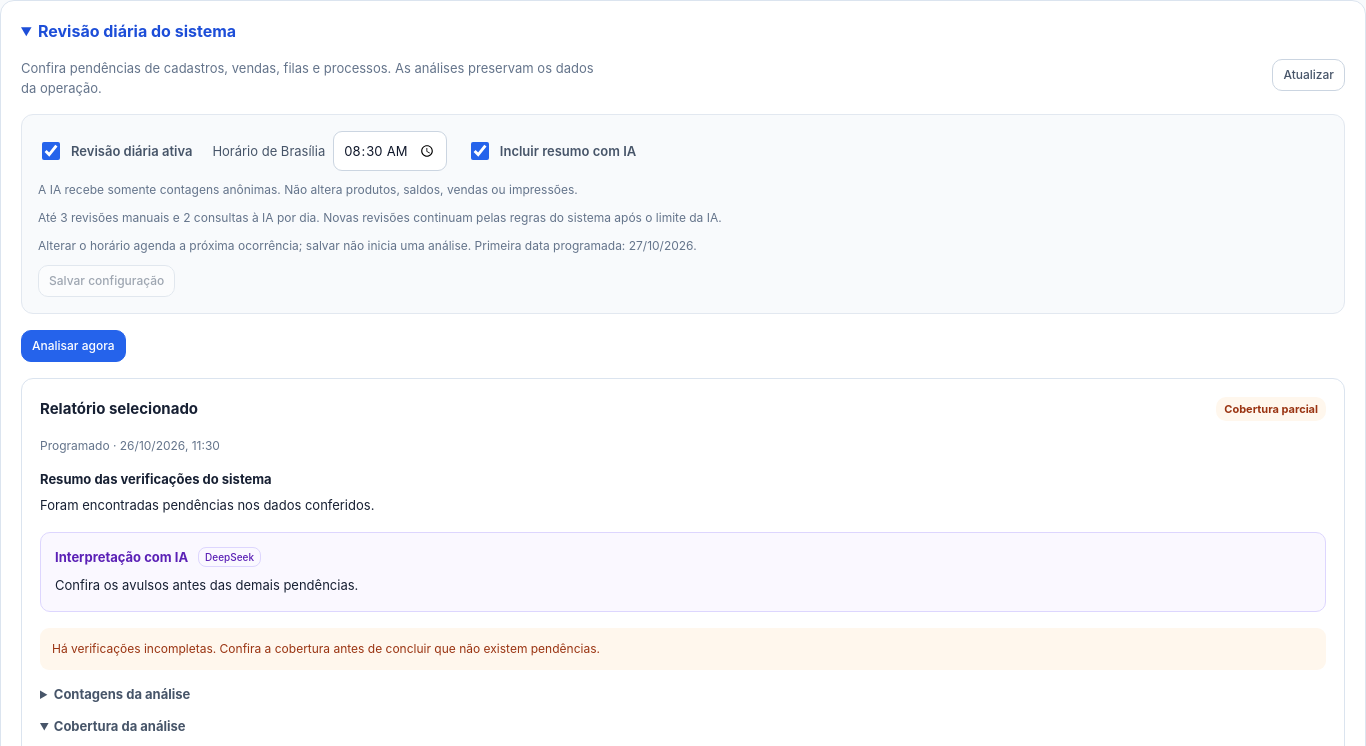
Test: Daily quality review owner panel › reports a reached manual limit without claiming that a scan was queued
Click the button "Analisar agora" at coordinates (73, 346), box [21, 330, 126, 362]
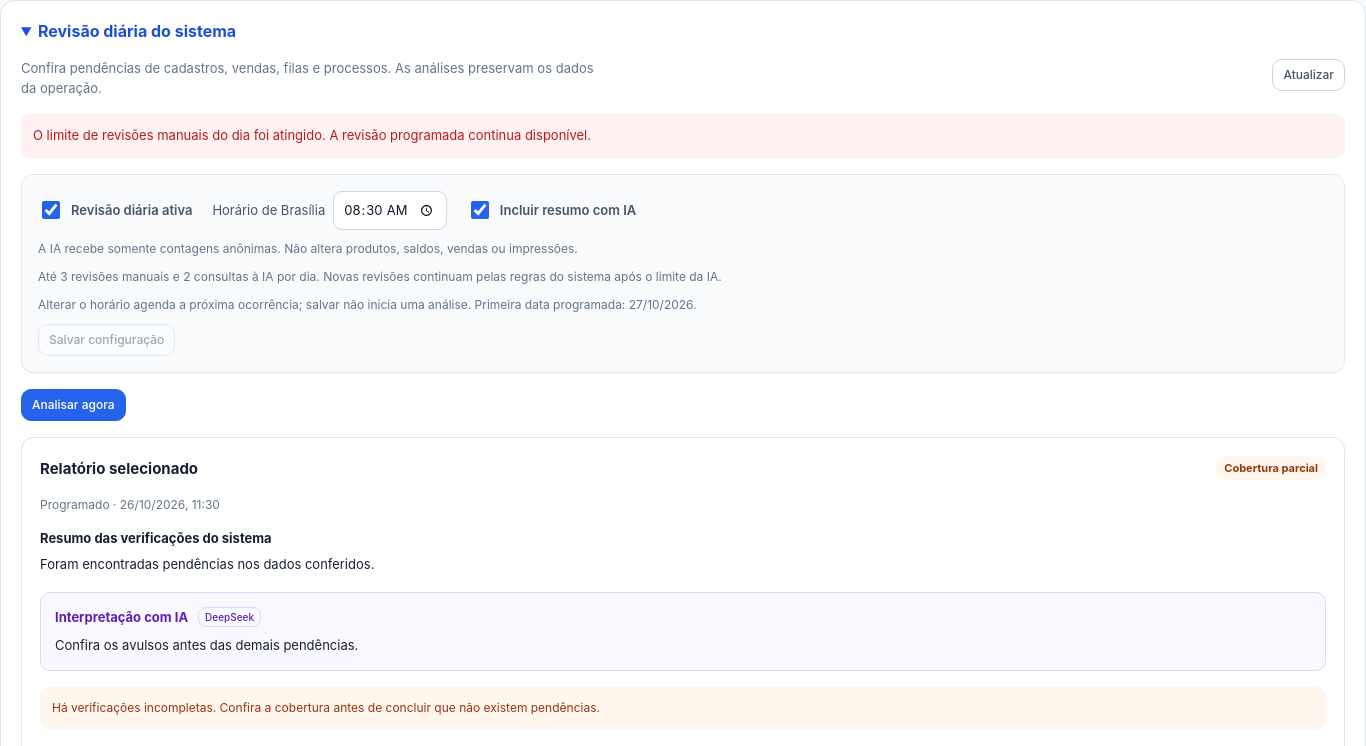
Result: the text "limite de revisões manuais do dia" is shown at [33, 127, 591, 143]
